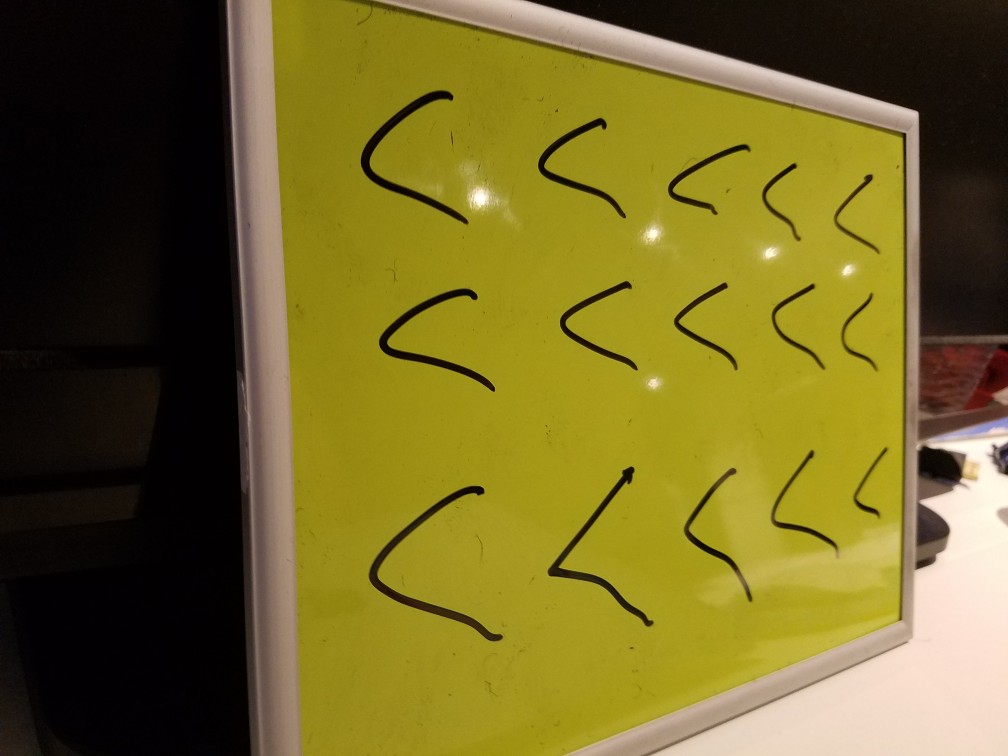<: (364, 462, 520, 664), (329, 70, 492, 234), (357, 266, 517, 416), (540, 451, 662, 642), (665, 452, 759, 618), (518, 97, 626, 234), (545, 265, 644, 385), (758, 432, 840, 569), (663, 120, 753, 230), (662, 268, 738, 385), (758, 266, 827, 383), (753, 144, 826, 251), (827, 159, 895, 266), (835, 279, 897, 391), (848, 430, 893, 534)
